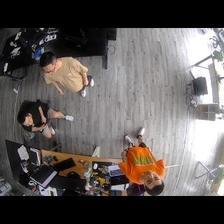normal: (116, 125, 166, 195), (39, 52, 96, 99), (16, 100, 73, 140)
